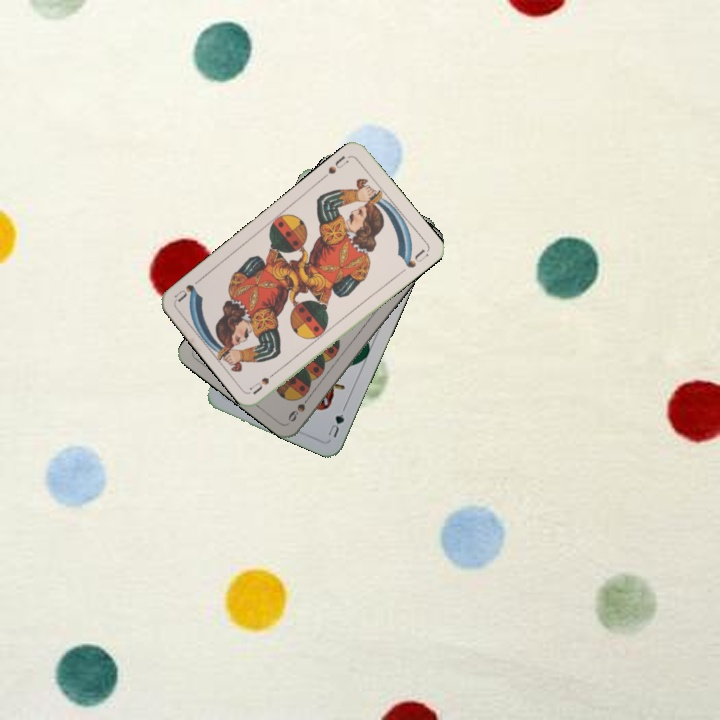GU: (324, 410, 347, 441)
S9: (284, 390, 314, 425)
SU: (246, 365, 282, 396), (324, 152, 351, 177)
